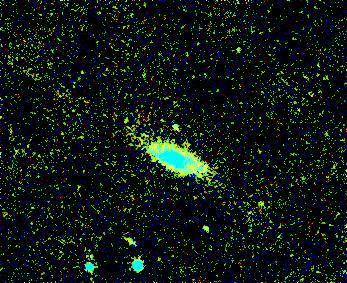star: (145, 238, 175, 268)
